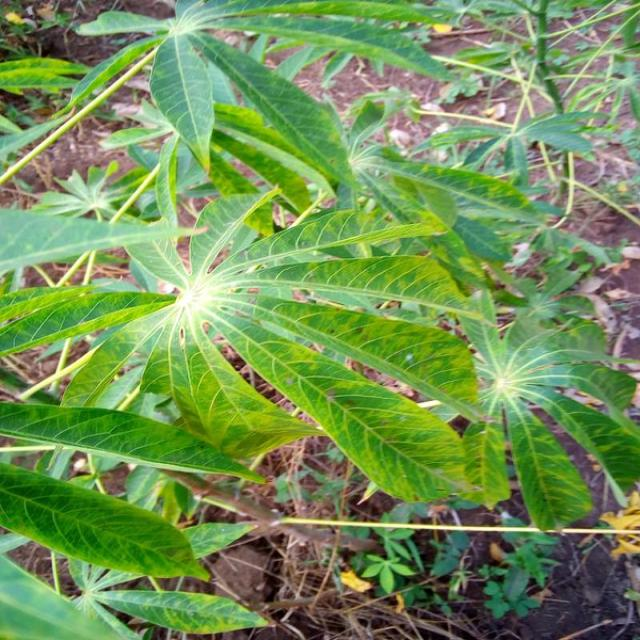cassava leaf: (0, 460, 211, 581), (148, 30, 215, 174)
